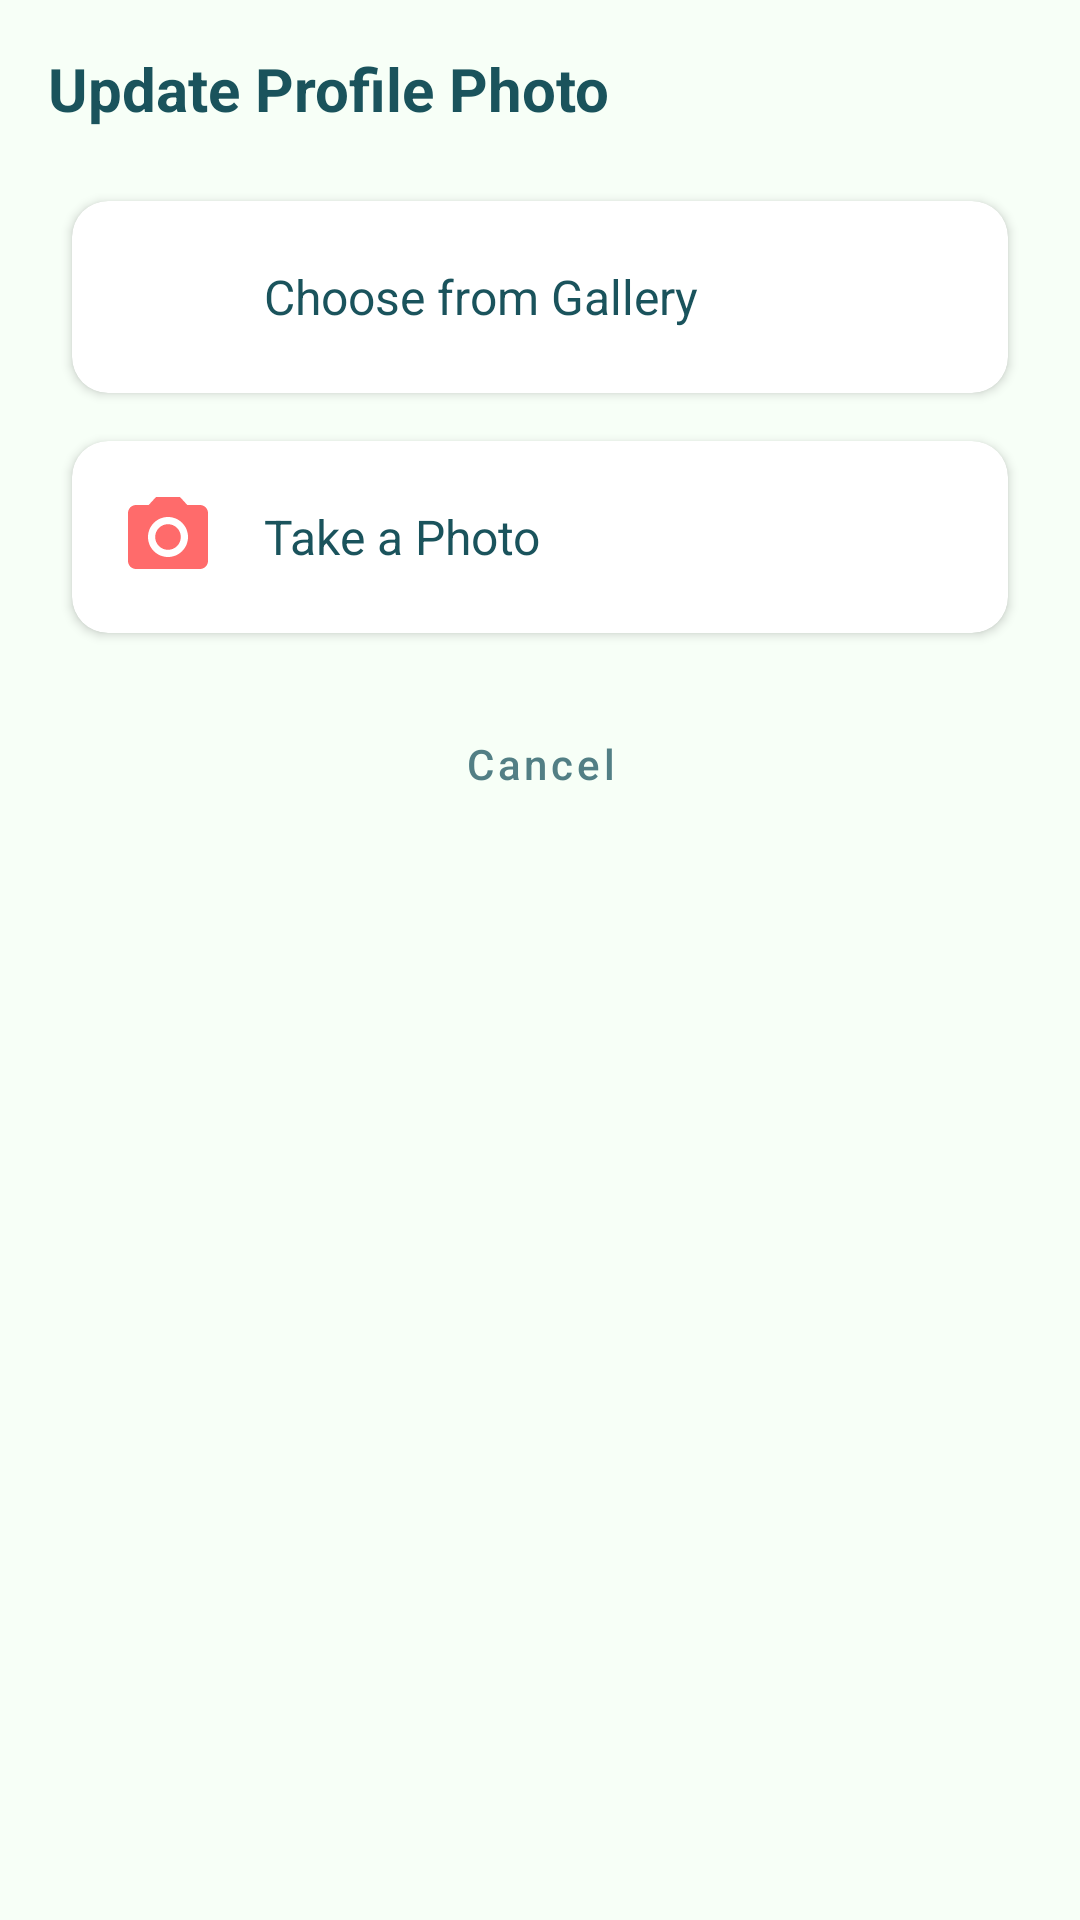

Icon bounding boxes for this 1080x1920 phone screenshot, format (x1, y1, x2, y2):
Camera Icon: (128, 497, 208, 569)
